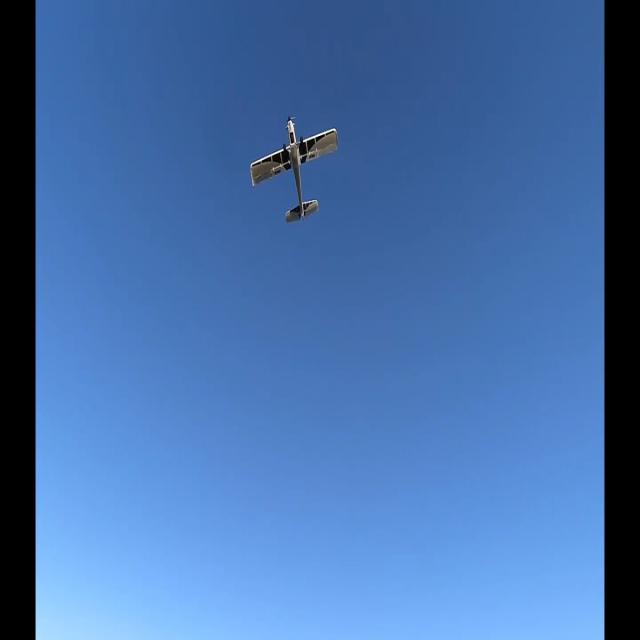iha: (282, 146, 306, 193)
